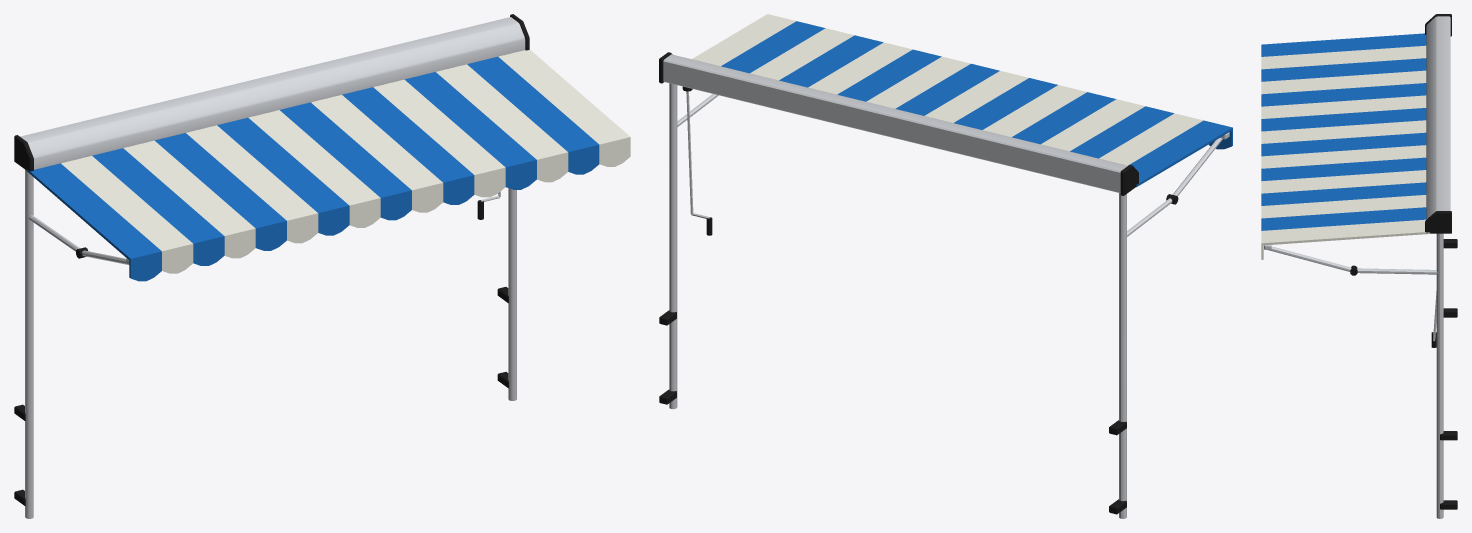
The model's file is toldo_enrollable_mediano.glb.
3 views of the same model, side by side, from view 1: azimuth 30°, elevation 25°; view 2: azimuth 150°, elevation 25°; view 3: azimuth 270°, elevation 25° (orthographic). The views are drawn at different scales.
Visible parts, largest first — view 1: pieza_tramo, pieza_punta_izq, pieza_punta_der; view 2: pieza_tramo, pieza_punta_izq, pieza_punta_der; view 3: pieza_tramo, pieza_punta_der, pieza_punta_izq.
Part boxes in pixels (x1=…): pieza_tramo: x1=78, y1=31, x2=568, y2=265; pieza_punta_izq: x1=14, y1=122, x2=193, y2=518; pieza_punta_der: x1=453, y1=14, x2=630, y2=400; pieza_tramo: x1=717, y1=28, x2=1173, y2=179; pieza_punta_izq: x1=1066, y1=113, x2=1232, y2=518; pieza_punta_der: x1=659, y1=14, x2=825, y2=409; pieza_tramo: x1=1261, y1=39, x2=1450, y2=218; pieza_punta_der: x1=1261, y1=188, x2=1457, y2=518; pieza_punta_izq: x1=1261, y1=14, x2=1457, y2=317.
Size of what is drawn, in the model's own units: 2.4 by 1.74 by 1.
